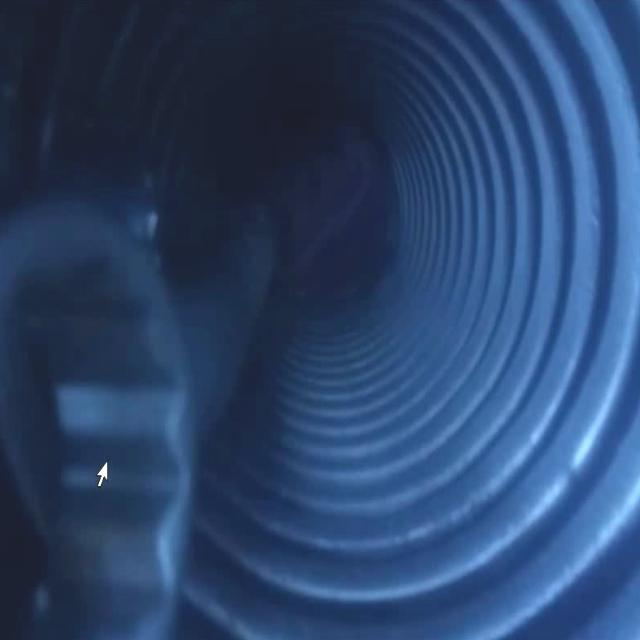metal piece: (0, 207, 211, 640)
